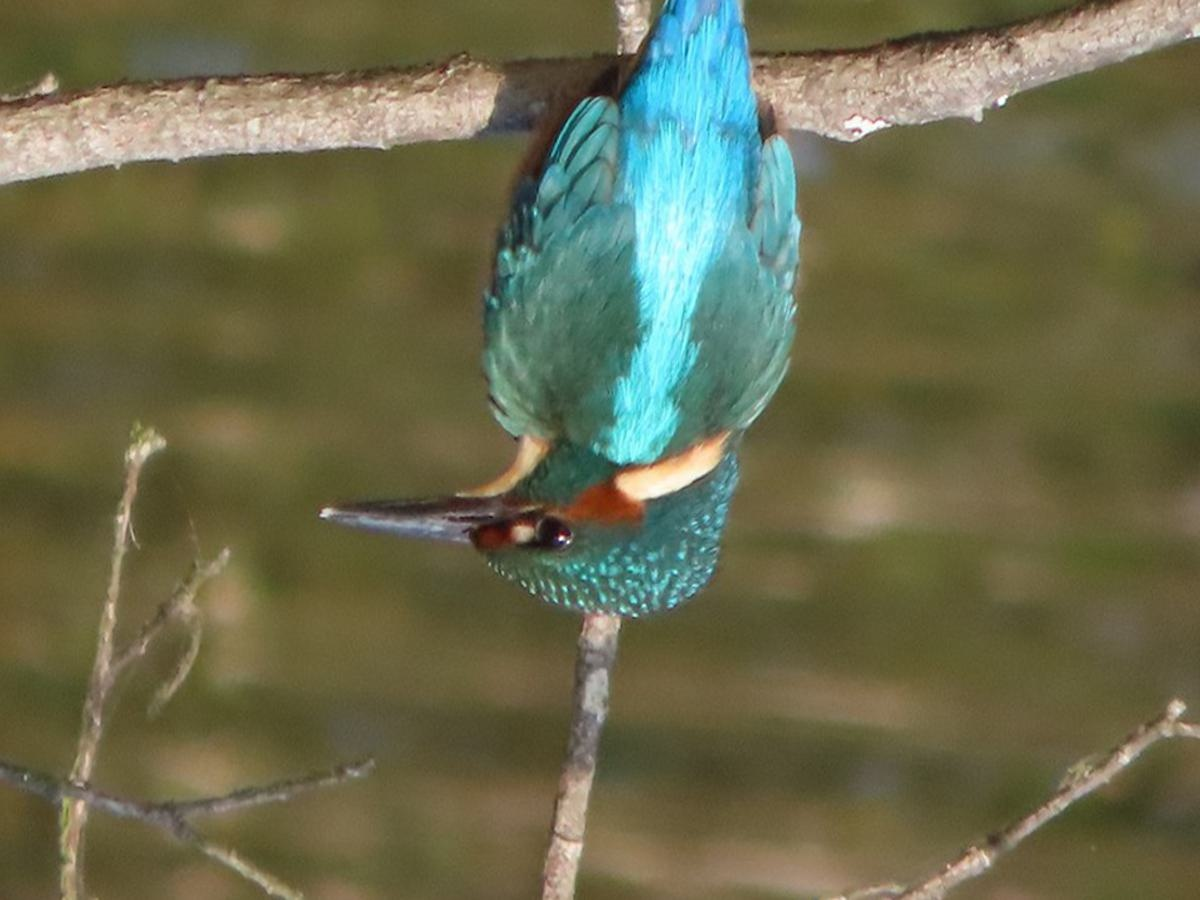kingfisher: (303, 1, 814, 641)
